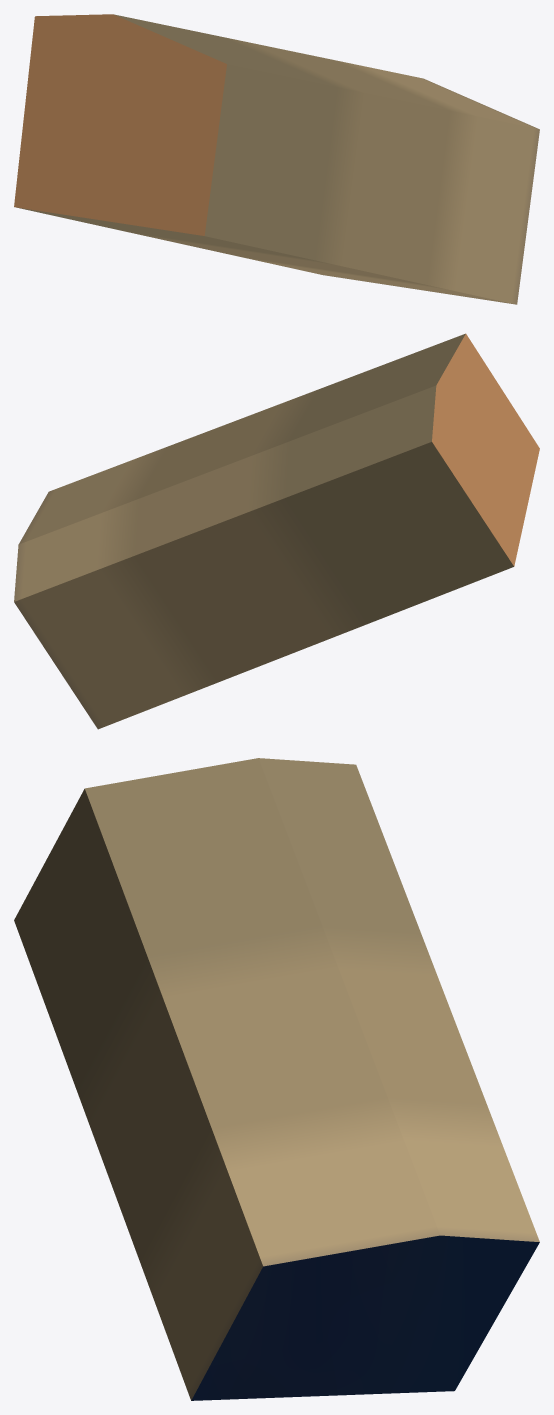
File: 05dd_Antigua_and_Barbuda.glb
3 renders of one model, top to bottom at view 1: azimuth 30°, elevation 25°; view 2: azimuth 150°, elevation 25°; view 3: azimuth 270°, elevation 25°, orthographic. The views are drawn at different scales.
Visible parts, largest first — view 1: part_0; view 2: part_0; view 3: part_0.
Part boxes in pixels (box(x1,y1,x2,y2)): part_0: box(14, 14, 539, 304); part_0: box(14, 333, 539, 729); part_0: box(14, 758, 539, 1400).
Size of the model in its own units: 0.2275 by 0.1638 by 0.1683.
Materials: 1 (1 with a texture image).
